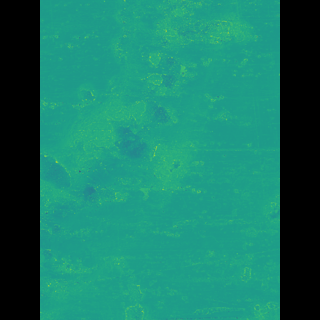Loch: (69, 0, 216, 320)
